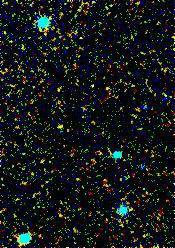star: (48, 111, 78, 141)
